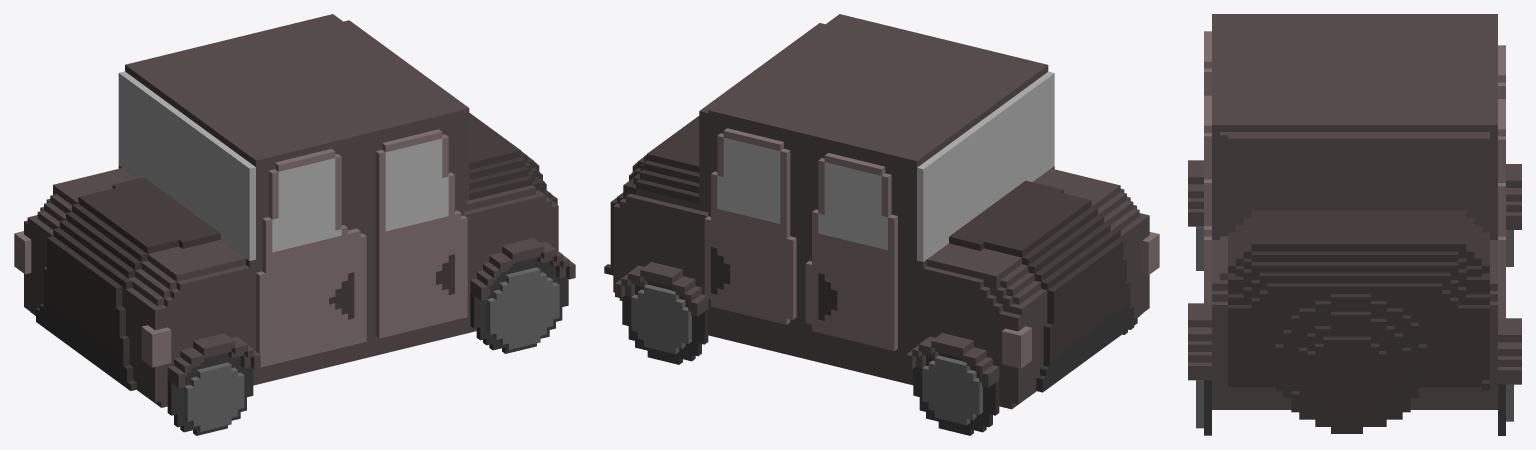
The model's file is Car0.obj.
3 views of the same model, side by side, from view 1: azimuth 30°, elevation 25°; view 2: azimuth 150°, elevation 25°; view 3: azimuth 270°, elevation 25° (orthographic). The views are drawn at different scales.
Bounding box in the file's own units: 6.9 × 3.9 × 4.2.
Materials: 1 (1 with a texture image).
